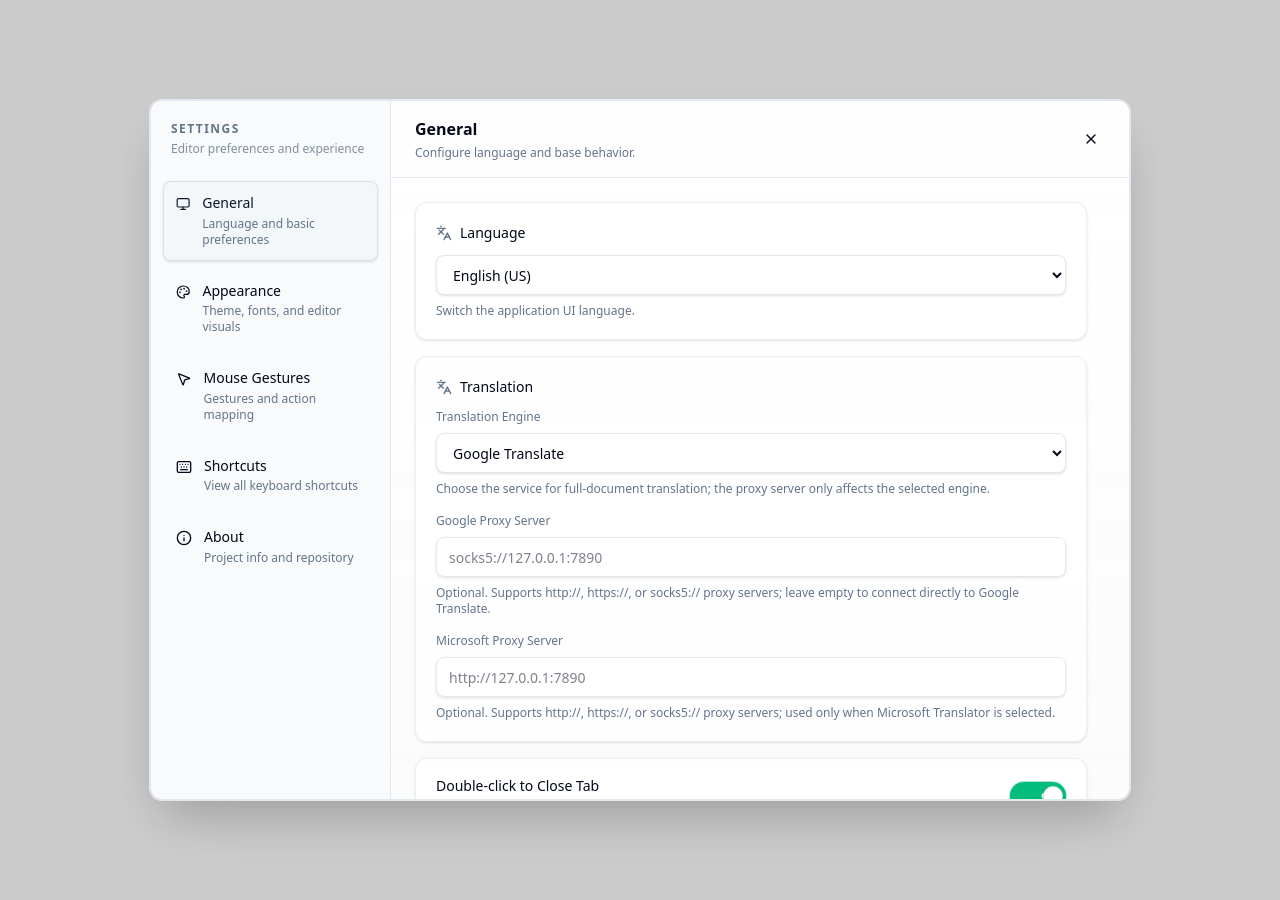
SettingsModal › updates language from general settings
The width and height of the screenshot is (1280, 900).
Select "简体中文" in the dropdown named "Language" at {"x": 751, "y": 275}, box [436, 255, 1066, 295]
(page scrolled)
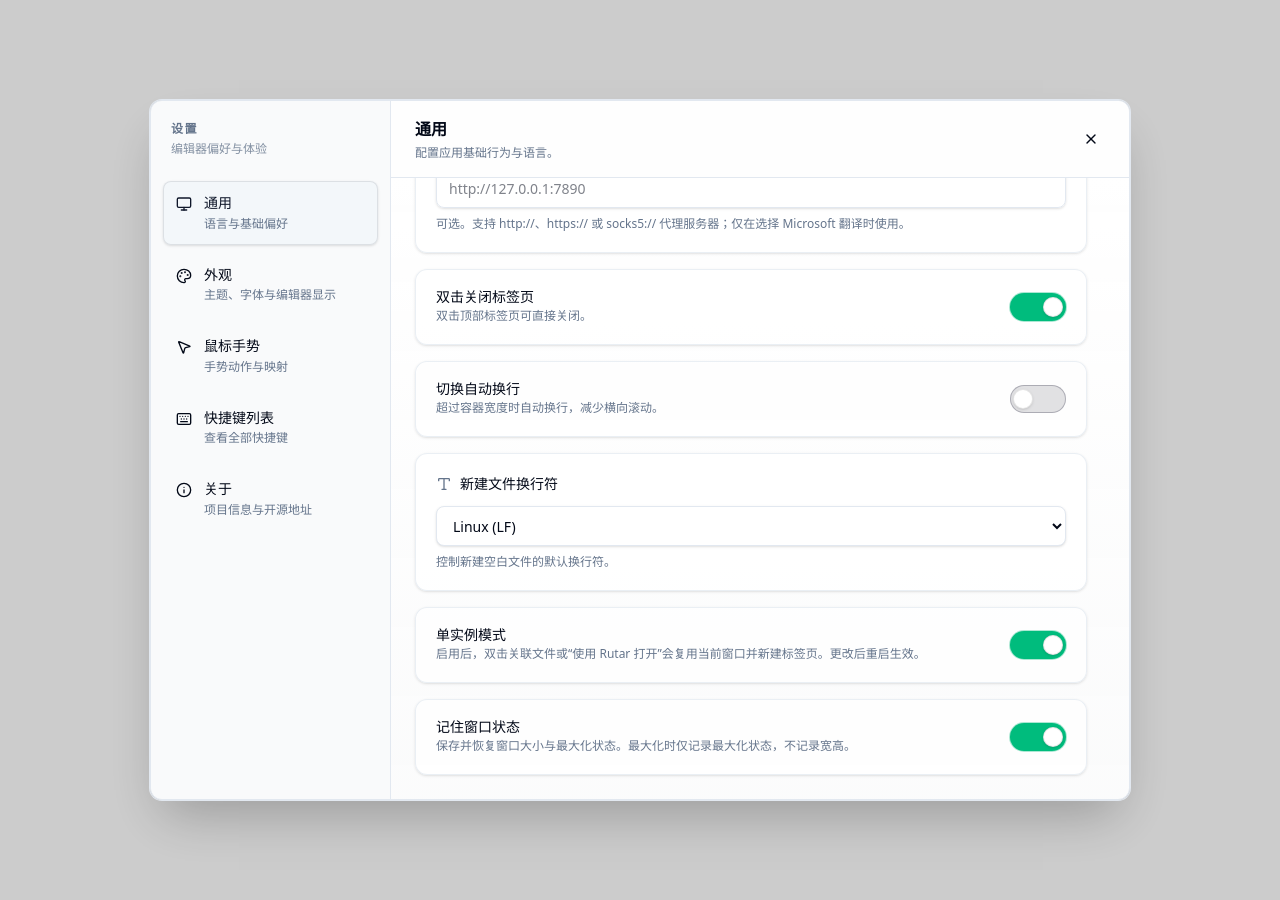
Expected: the dropdown named "新建文件换行符" is shown, [436, 506, 1066, 546]
